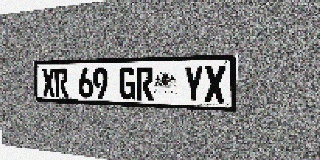6: (78, 68, 93, 98)
9: (93, 68, 109, 99)
G: (119, 67, 136, 100)
R: (136, 67, 153, 100), (54, 68, 69, 97)
X: (204, 65, 226, 103), (42, 68, 55, 97)
Y: (184, 66, 204, 102)
